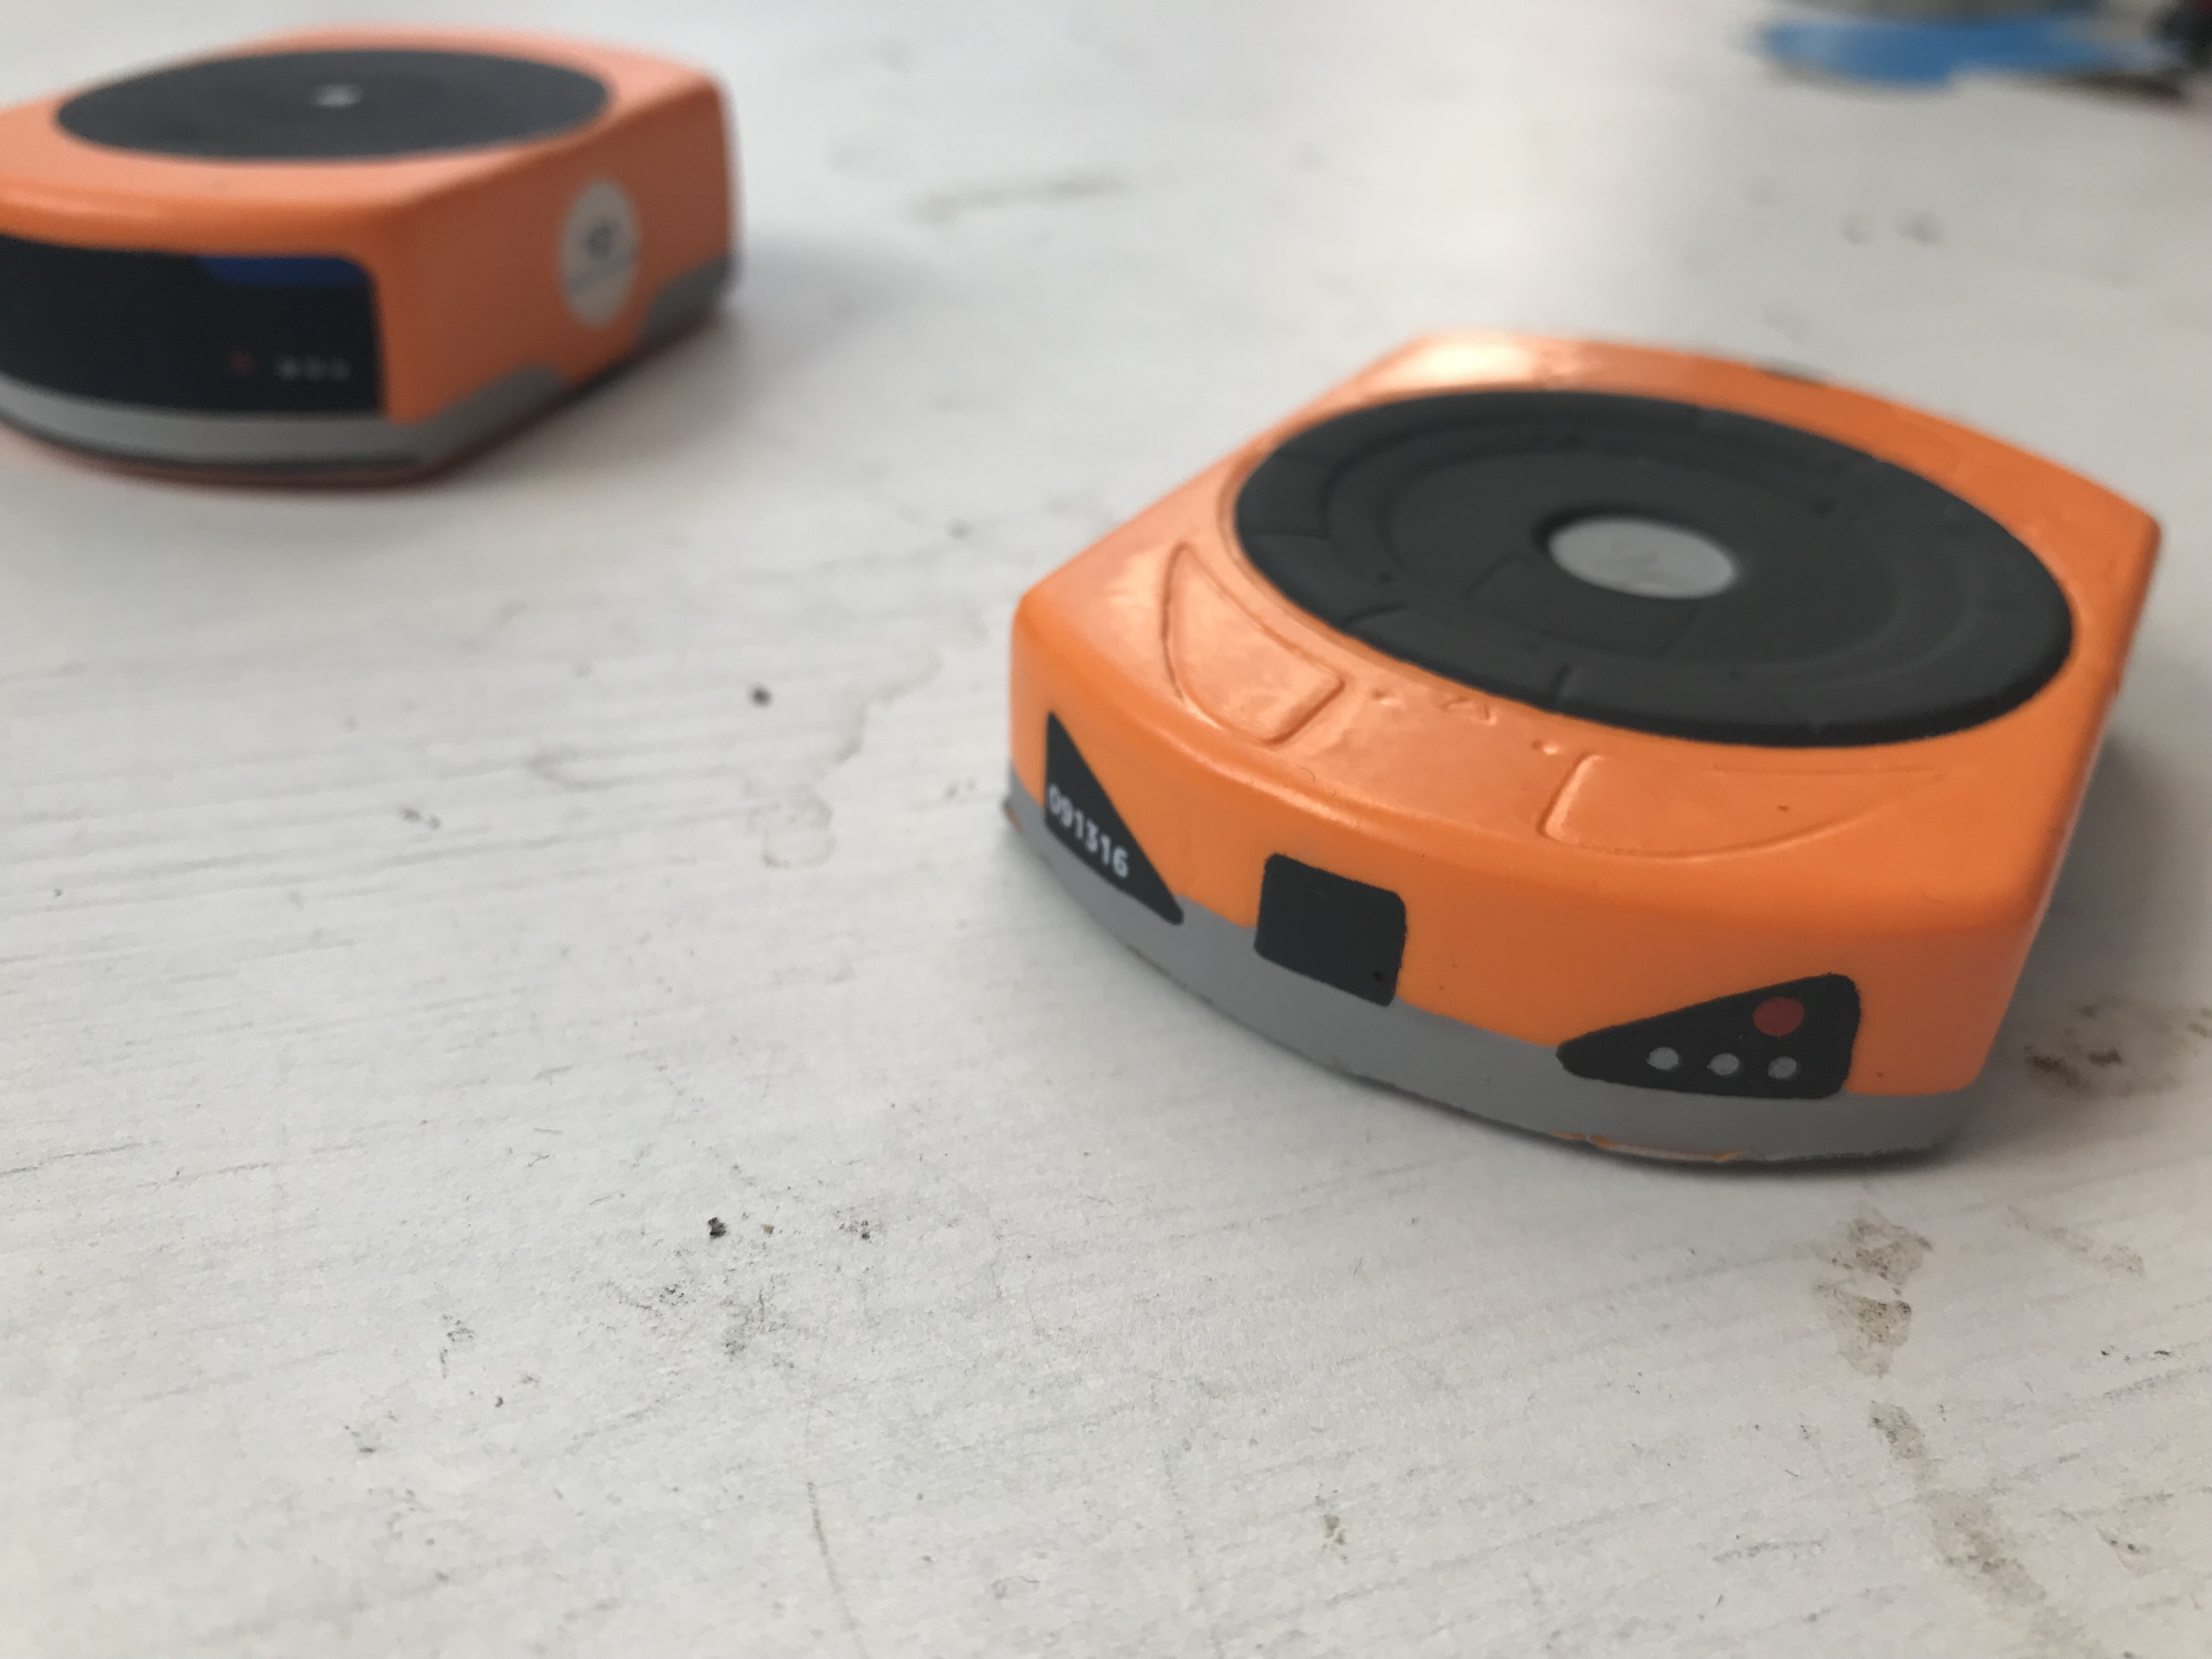amazon_bot: (981, 307, 2195, 1199), (7, 21, 766, 533)
